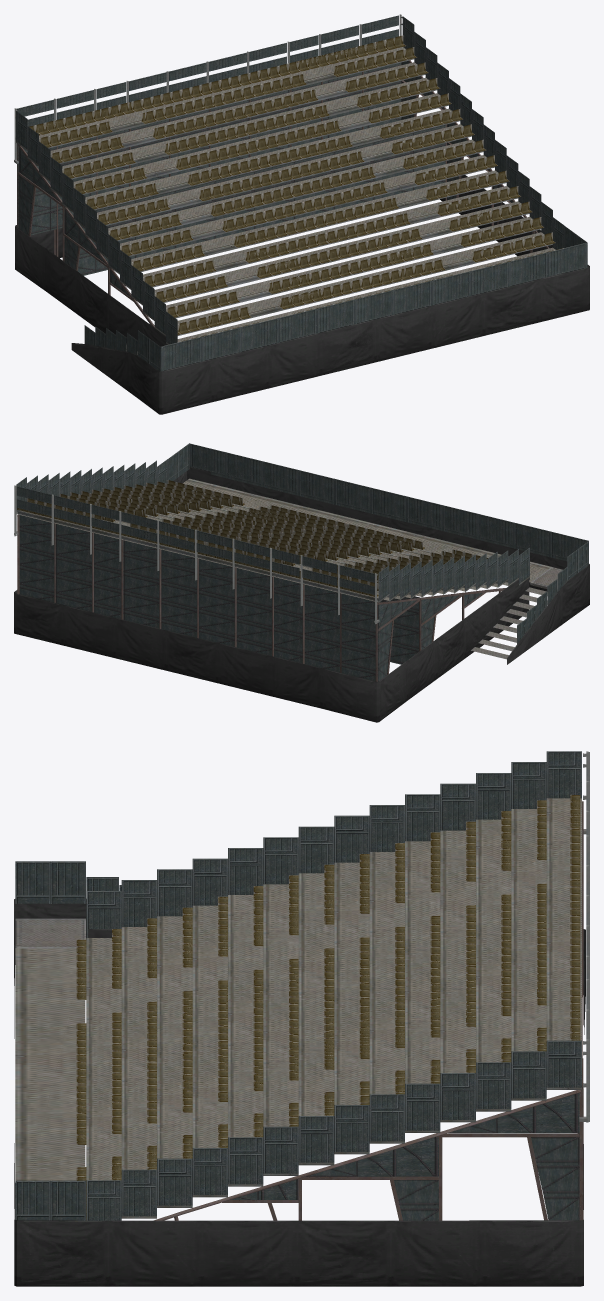
Rendered from stands.glb.
3 views of the same model, one above another, from view 1: azimuth 30°, elevation 25°; view 2: azimuth 150°, elevation 25°; view 3: azimuth 270°, elevation 25° (orthographic). The views are drawn at different scales.
Visible parts, largest first — view 1: Node_013_mel_grandstand_genericmedium_a_physics_!bk; view 2: Node_013_mel_grandstand_genericmedium_a_physics_!bk; view 3: Node_013_mel_grandstand_genericmedium_a_physics_!bk.
Boxes of the visible parts, x1,y1,x2,y2 form: Node_013_mel_grandstand_genericmedium_a_physics_!bk: [14, 14, 589, 414]; Node_013_mel_grandstand_genericmedium_a_physics_!bk: [14, 443, 589, 722]; Node_013_mel_grandstand_genericmedium_a_physics_!bk: [14, 751, 589, 1286].
Bounding box in the file's own units: 23.67 × 8.38 × 17.87.
3 materials, 3 textured.
